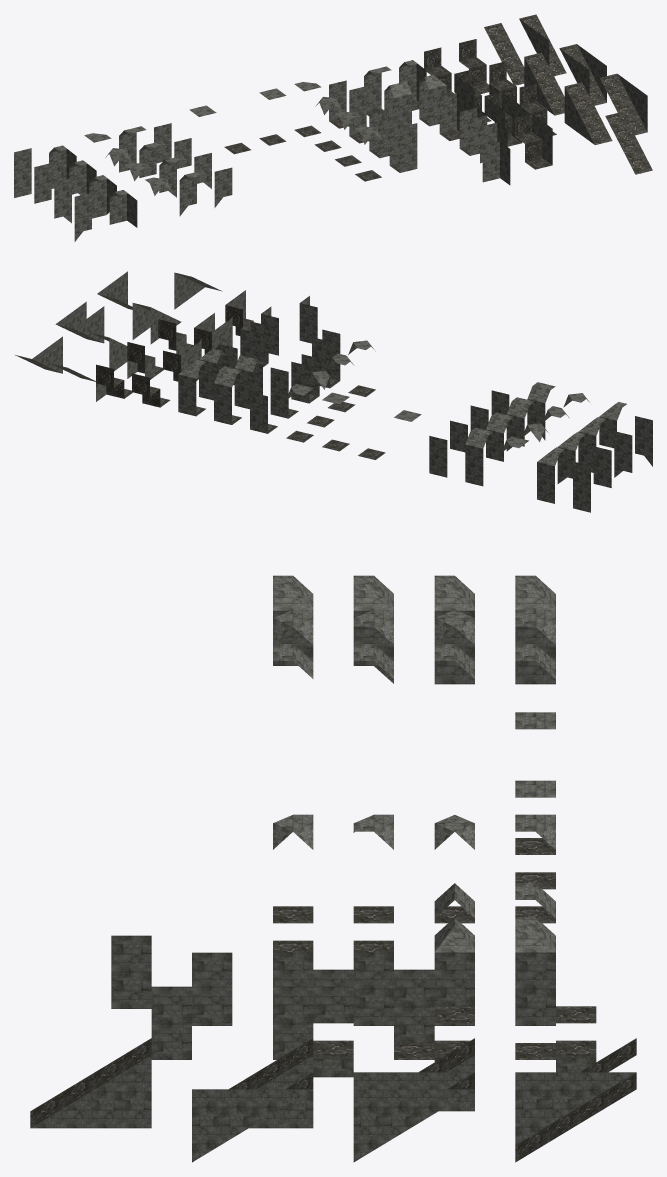
The model's file is dungeon-tileset.glb.
3 renders of one model, top to bottom at view 1: azimuth 30°, elevation 25°; view 2: azimuth 150°, elevation 25°; view 3: azimuth 270°, elevation 25°, orthographic. The views are drawn at different scales.
Visible parts, largest first — view 1: ramp-wall-inB-col, ramp-wallR-col, two-steps-wallR-col, ramp-wallB-col, ramp-wall-inL-col, floor-wall-dbl-high-col, ramp-wall-inR-col, two-steps-wallB-col, ramp-col, floor-corner-in-full-roof-col, corner-out-col, ramp-wallL-col (+35 smaller); view 2: floor-wall-roof-dbl-col, ramp-wallB-col, floor-wall-roof-col, floor-wall-dbl-high-col, wall-roof-col, floor-corner-in-full-col, floor-corner-in-roof-col, floor-wall-dbl-col, two-steps-wallB-col, ramp-wall-inB-col, floor-corner-in-full-roof-col, floor-wall-high-col (+33 smaller); view 3: ramp-wall-inR-col, ramp-wallB-col, ramp-wallL-col, two-steps-wallL-col, two-steps-wallB-col, ramp-wallR-col, two-steps-wallR-col, floor-corner-in-roof-col, ramp-wall-inB-col, corner-out-col, floor-corner-in-col, corner-in-roof-col (+17 smaller).
Part boxes in pixels (left/top/right/bottom): ramp-wall-inB-col: left=564, top=82, right=612, bottom=144; ramp-wallR-col: left=600, top=73, right=647, bottom=135; two-steps-wallR-col: left=515, top=114, right=552, bottom=169; ramp-wallB-col: left=559, top=44, right=606, bottom=105; ramp-wall-inL-col: left=524, top=52, right=564, bottom=115; floor-wall-dbl-high-col: left=389, top=116, right=417, bottom=172; ramp-wall-inR-col: left=605, top=111, right=652, bottom=174; two-steps-wallB-col: left=484, top=92, right=522, bottom=146; ramp-col: left=484, top=23, right=524, bottom=85; floor-corner-in-full-roof-col: left=419, top=75, right=446, bottom=126; corner-out-col: left=482, top=141, right=510, bottom=185; ramp-wallL-col: left=519, top=14, right=566, bottom=76; floor-wall-roof-dbl-col: left=234, top=355, right=262, bottom=409; ramp-wallB-col: left=55, top=301, right=104, bottom=343; floor-wall-roof-col: left=214, top=366, right=241, bottom=424; floor-wall-dbl-high-col: left=312, top=329, right=340, bottom=388; wall-roof-col: left=465, top=427, right=492, bottom=486; floor-corner-in-full-col: left=240, top=321, right=268, bottom=366; floor-corner-in-roof-col: left=178, top=359, right=205, bottom=416; floor-wall-dbl-col: left=291, top=354, right=319, bottom=403; two-steps-wallB-col: left=194, top=313, right=232, bottom=354; ramp-wall-inB-col: left=132, top=303, right=181, bottom=344; floor-corner-in-full-roof-col: left=199, top=348, right=227, bottom=400; floor-wall-high-col: left=270, top=367, right=298, bottom=418; ramp-wall-inR-col: left=30, top=1038, right=151, bottom=1128; ramp-wallB-col: left=353, top=1072, right=474, bottom=1162; ramp-wallL-col: left=515, top=1072, right=636, bottom=1162; two-steps-wallL-col: left=394, top=969, right=474, bottom=1059; two-steps-wallB-col: left=273, top=969, right=353, bottom=1059; ramp-wallR-col: left=192, top=1072, right=313, bottom=1162; two-steps-wallR-col: left=151, top=986, right=232, bottom=1059; floor-corner-in-roof-col: left=515, top=917, right=555, bottom=1025; ramp-wall-inB-col: left=229, top=1038, right=313, bottom=1128; corner-out-col: left=111, top=935, right=151, bottom=1008; floor-corner-in-col: left=353, top=952, right=393, bottom=1025; corner-in-roof-col: left=515, top=575, right=555, bottom=684.
Size of the model in its own units: 31 by 2.5 by 15.
1 material, 1 textured.
